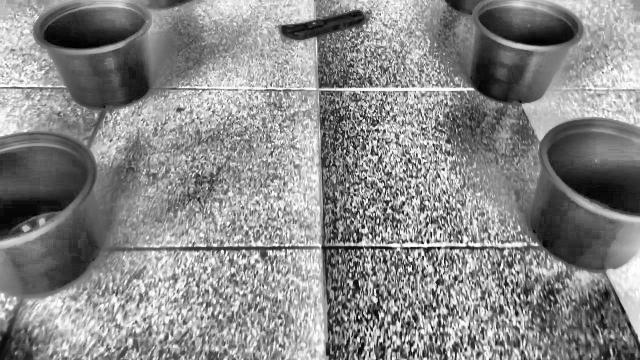pot: (0, 133, 104, 298), (528, 120, 640, 272), (33, 0, 152, 109), (469, 0, 584, 104)
